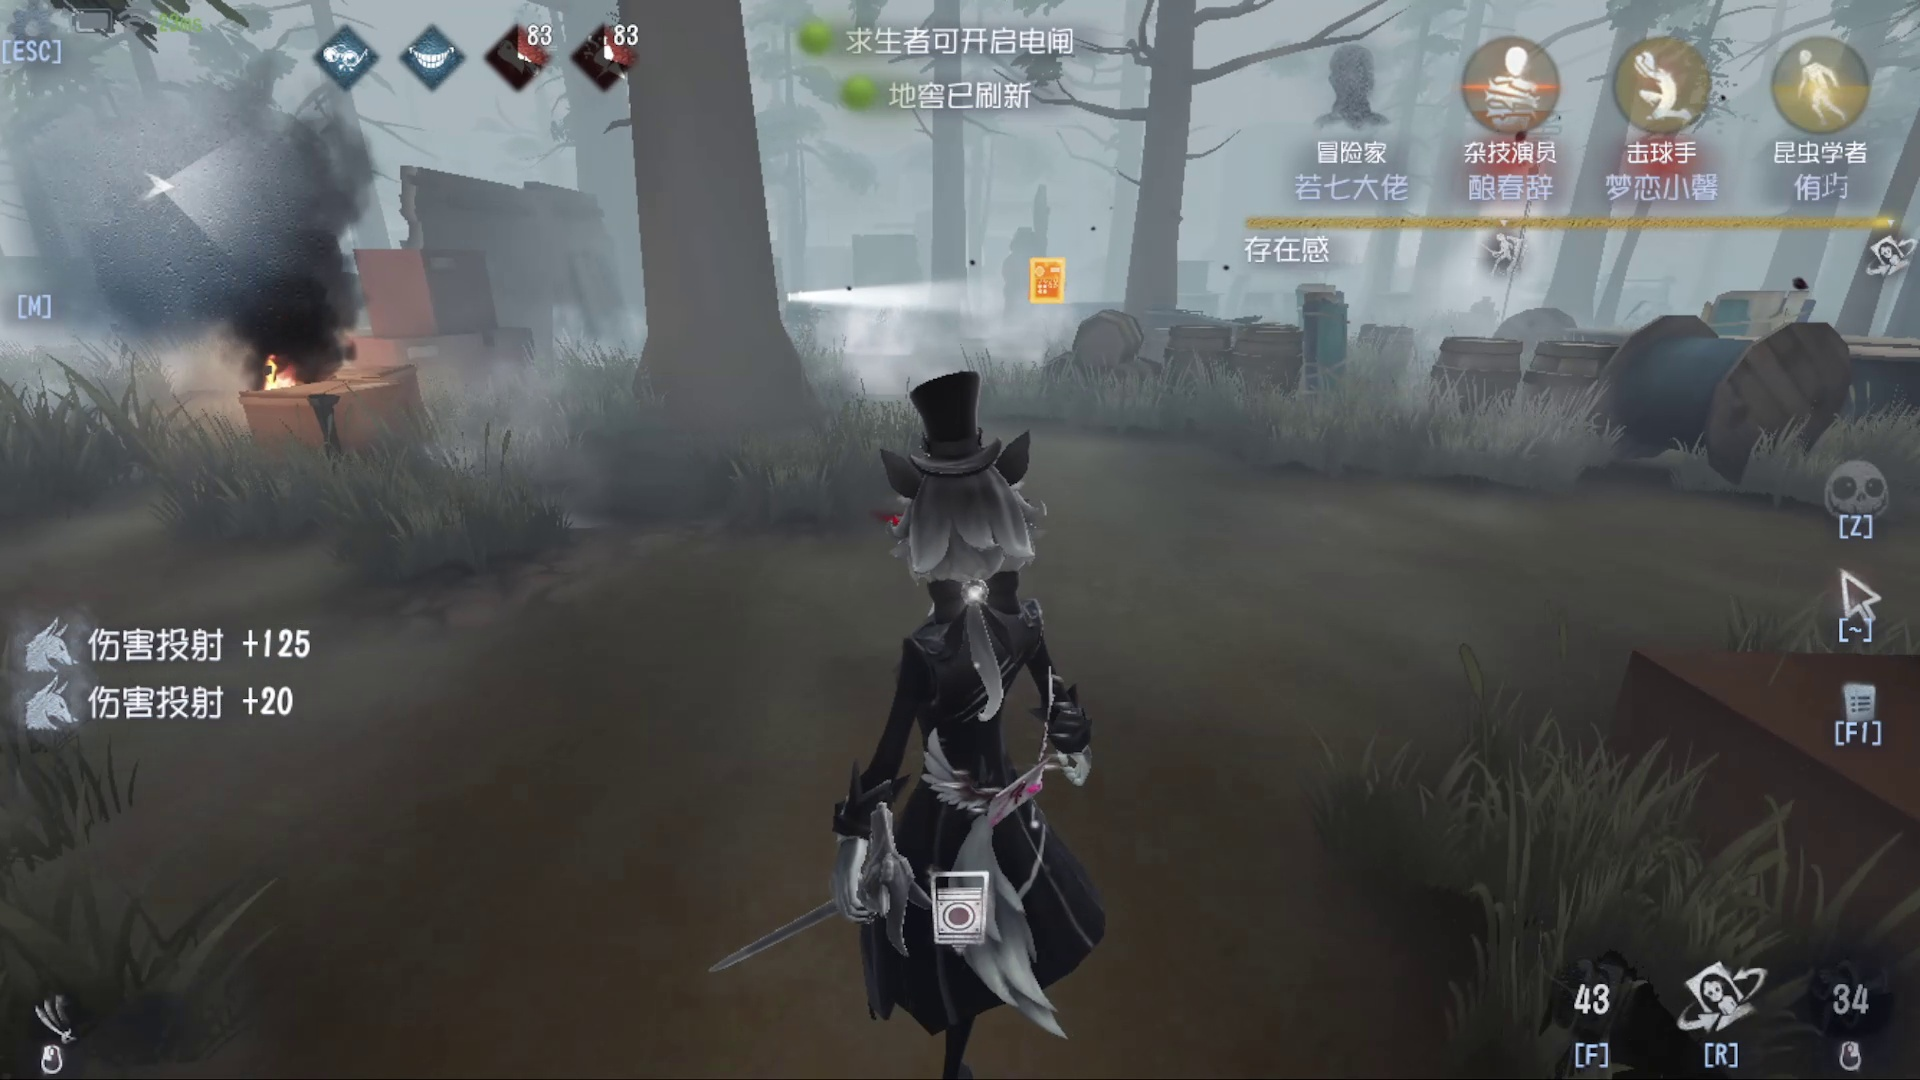木板: (1274, 270, 1371, 431)
